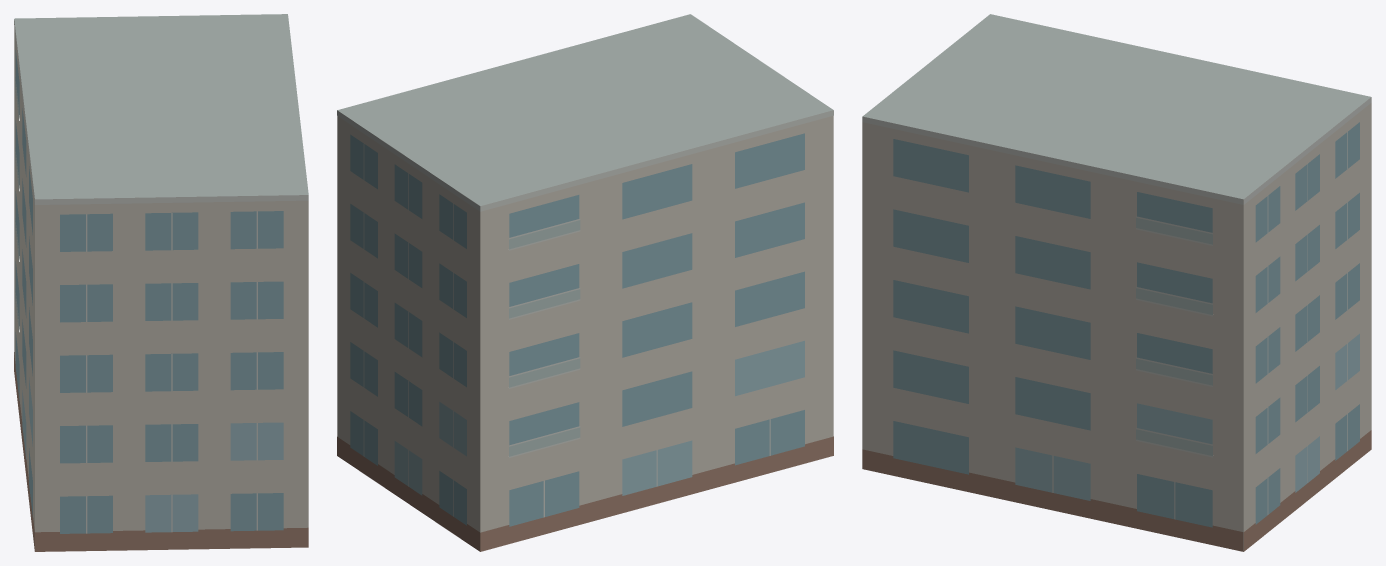
File: survey-upis-32560304.glb
The picture shows the model from 3 angles, left to right: view 1: azimuth 30°, elevation 25°; view 2: azimuth 150°, elevation 25°; view 3: azimuth 270°, elevation 25°; orthographic projection.
Visible parts, largest first — view 1: survey-upis-32560304.tmp; view 2: survey-upis-32560304.tmp; view 3: survey-upis-32560304.tmp.
Boxes of the visible parts, x1,y1,x2,y2 form: survey-upis-32560304.tmp: (14,14,308,551); survey-upis-32560304.tmp: (337,14,833,551); survey-upis-32560304.tmp: (862,14,1371,551).
Bounding box in the file's own units: 17.2 × 15.25 × 19.97.
